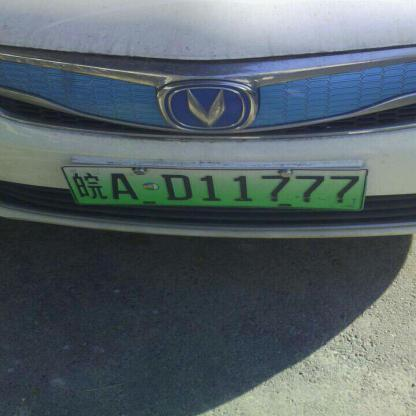lp: (61, 166, 368, 210)
